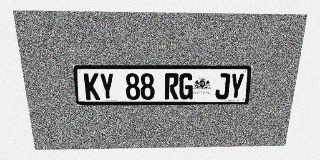8: (125, 73, 140, 100), (140, 73, 154, 100)
G: (179, 73, 194, 99)
J: (215, 73, 230, 99)
K: (84, 73, 100, 100)
R: (165, 73, 179, 100)
Y: (99, 73, 115, 100), (229, 73, 245, 99)
